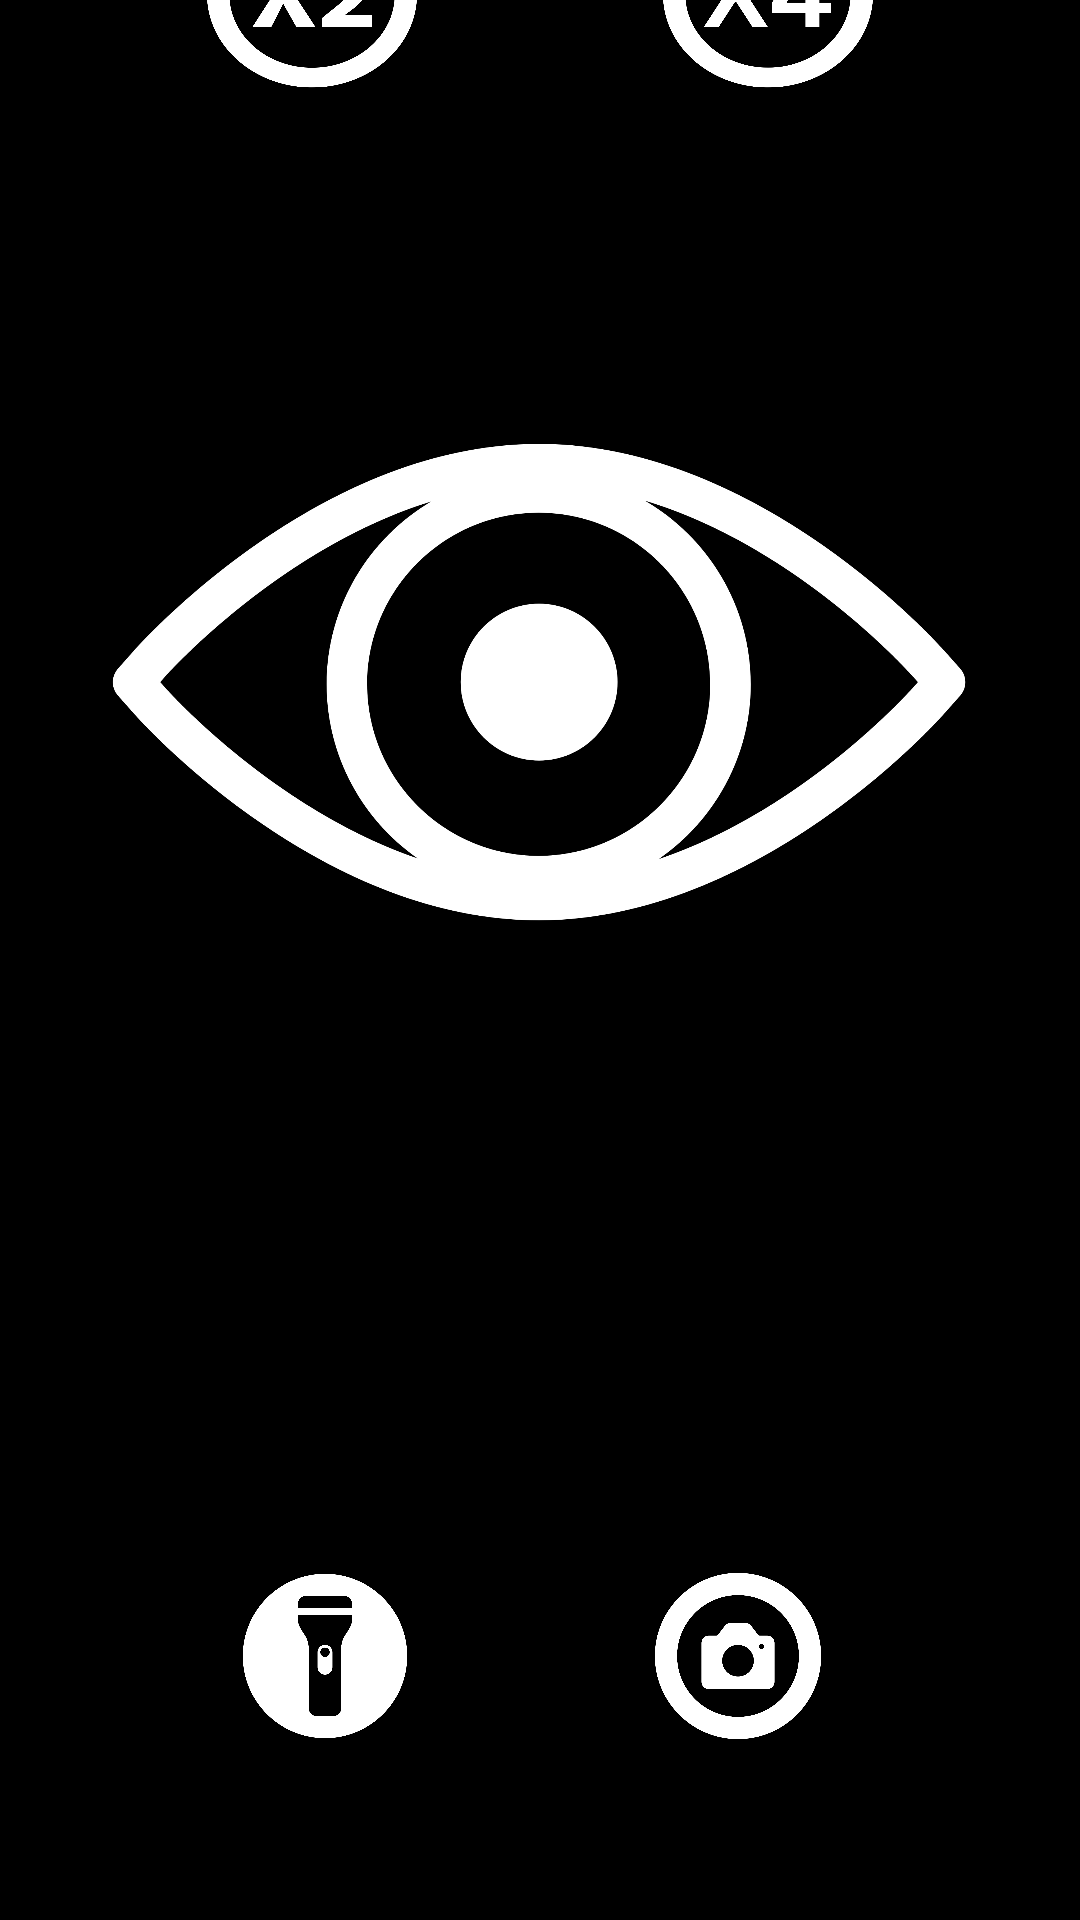

Where to tap for icons on this 1080 x 1920 app screen, as [x,y]:
capture: [738,1656]
flash: [325,1656]
